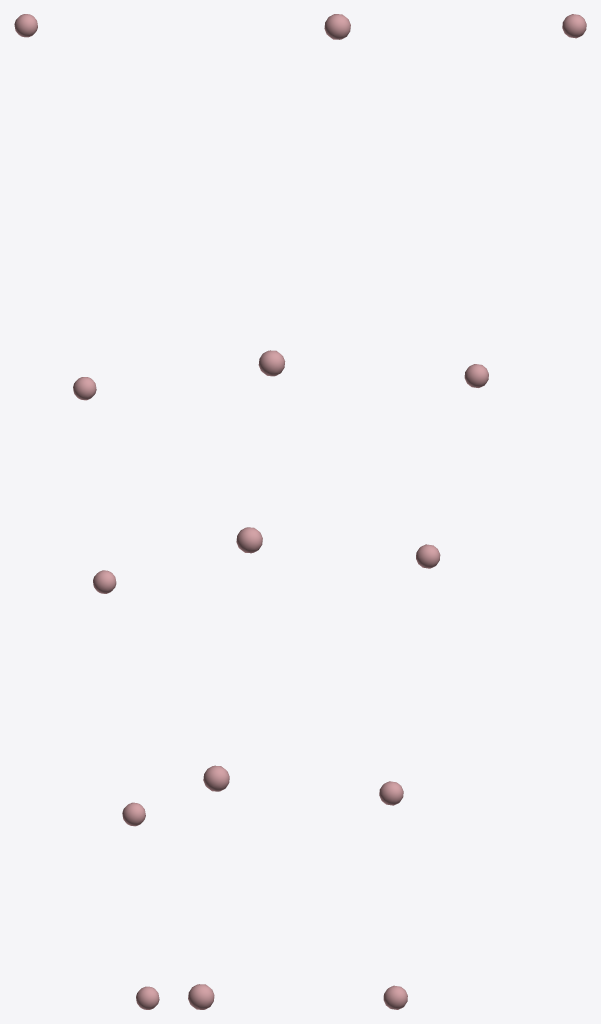
The picture shows the model from 3 angles, left to right: view 1: azimuth 30°, elevation 25°; view 2: azimuth 210°, elevation 25°; view 3: azimuth 270°, elevation 25°; orthographic projection. The views are drawn at different scales.
Visible parts, largest first — view 1: ZA_381b1a990663219e; view 2: ZA_381b1a990663219e; view 3: ZA_381b1a990663219e.
Part boxes in pixels (x1,y1,x2,y2): ZA_381b1a990663219e: (14, 14, 159, 1009); ZA_381b1a990663219e: (188, 14, 350, 1009); ZA_381b1a990663219e: (379, 14, 586, 1009).
Size of the model in its own units: 0.00703 by 0.113 by 0.0218.
